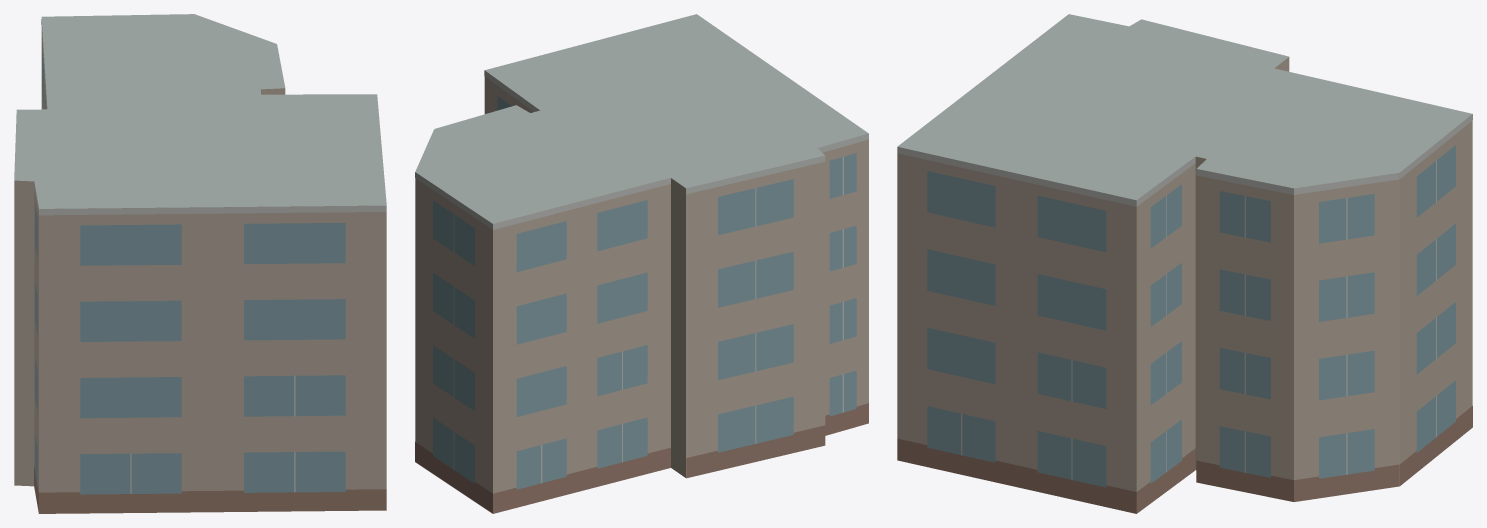
Rendered from survey-upis-33014493.glb.
The picture shows the model from 3 angles, left to right: view 1: azimuth 30°, elevation 25°; view 2: azimuth 150°, elevation 25°; view 3: azimuth 270°, elevation 25°; orthographic projection. The views are drawn at different scales.
Parts seen in each view (by area): view 1: survey-upis-33014493.tmp; view 2: survey-upis-33014493.tmp; view 3: survey-upis-33014493.tmp.
Boxes of the visible parts, bbox=[...] form: survey-upis-33014493.tmp: bbox=[14, 14, 386, 513]; survey-upis-33014493.tmp: bbox=[415, 14, 868, 513]; survey-upis-33014493.tmp: bbox=[897, 14, 1472, 513].
Bounding box in the file's own units: 14.91 × 11.7 × 19.47.
